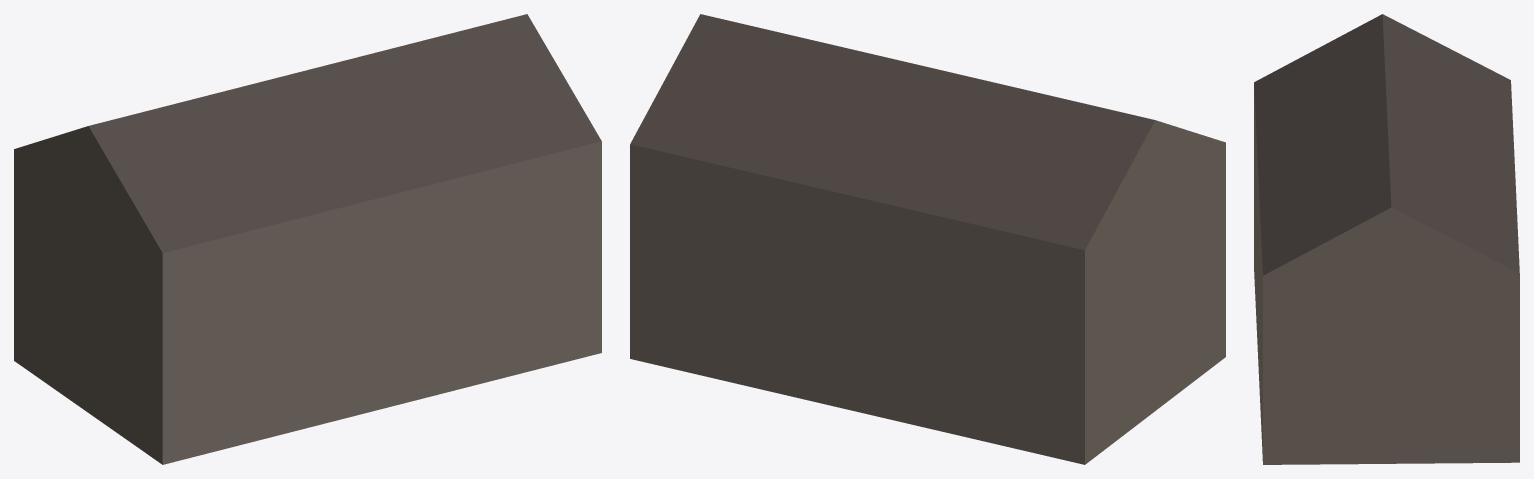
3 views of the same model, side by side, from view 1: azimuth 30°, elevation 25°; view 2: azimuth 150°, elevation 25°; view 3: azimuth 270°, elevation 25° (orthographic). The views are drawn at different scales.
Visible parts, largest first — view 1: HP-w858807423; view 2: HP-w858807423; view 3: HP-w858807423.
Boxes of the visible parts, left/top/right/bottom form: HP-w858807423: left=14, top=14, right=601, bottom=464; HP-w858807423: left=630, top=14, right=1225, bottom=464; HP-w858807423: left=1254, top=14, right=1519, bottom=464.
Size of the model in its own units: 13.31 by 8.13 by 7.64.
